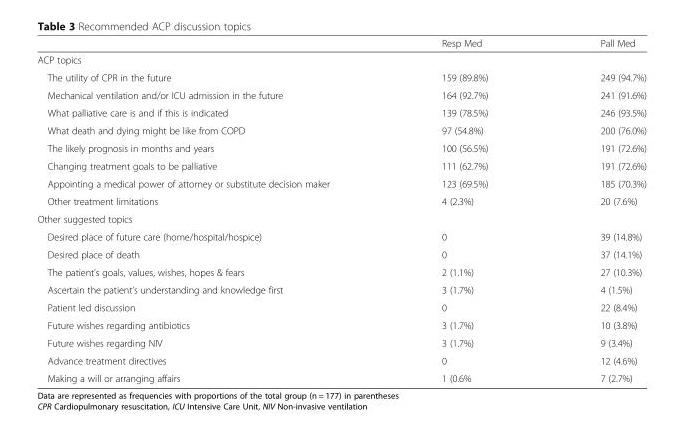table: (36, 37, 645, 383)
table column: (36, 37, 384, 383), (384, 37, 543, 383), (543, 37, 645, 383)
table column header: (36, 37, 645, 51)
table projected row header: (36, 209, 645, 227), (36, 51, 645, 68)
table row: (36, 85, 645, 103), (36, 103, 645, 121), (36, 121, 645, 139), (36, 156, 645, 174), (36, 174, 645, 192), (36, 209, 645, 227), (36, 227, 645, 245), (36, 262, 645, 280), (36, 280, 645, 298), (36, 298, 645, 316), (36, 333, 645, 351), (36, 351, 645, 369), (36, 51, 645, 68), (36, 68, 645, 85), (36, 139, 645, 156), (36, 192, 645, 209), (36, 245, 645, 262), (36, 316, 645, 333), (36, 37, 645, 51), (36, 369, 645, 383)
